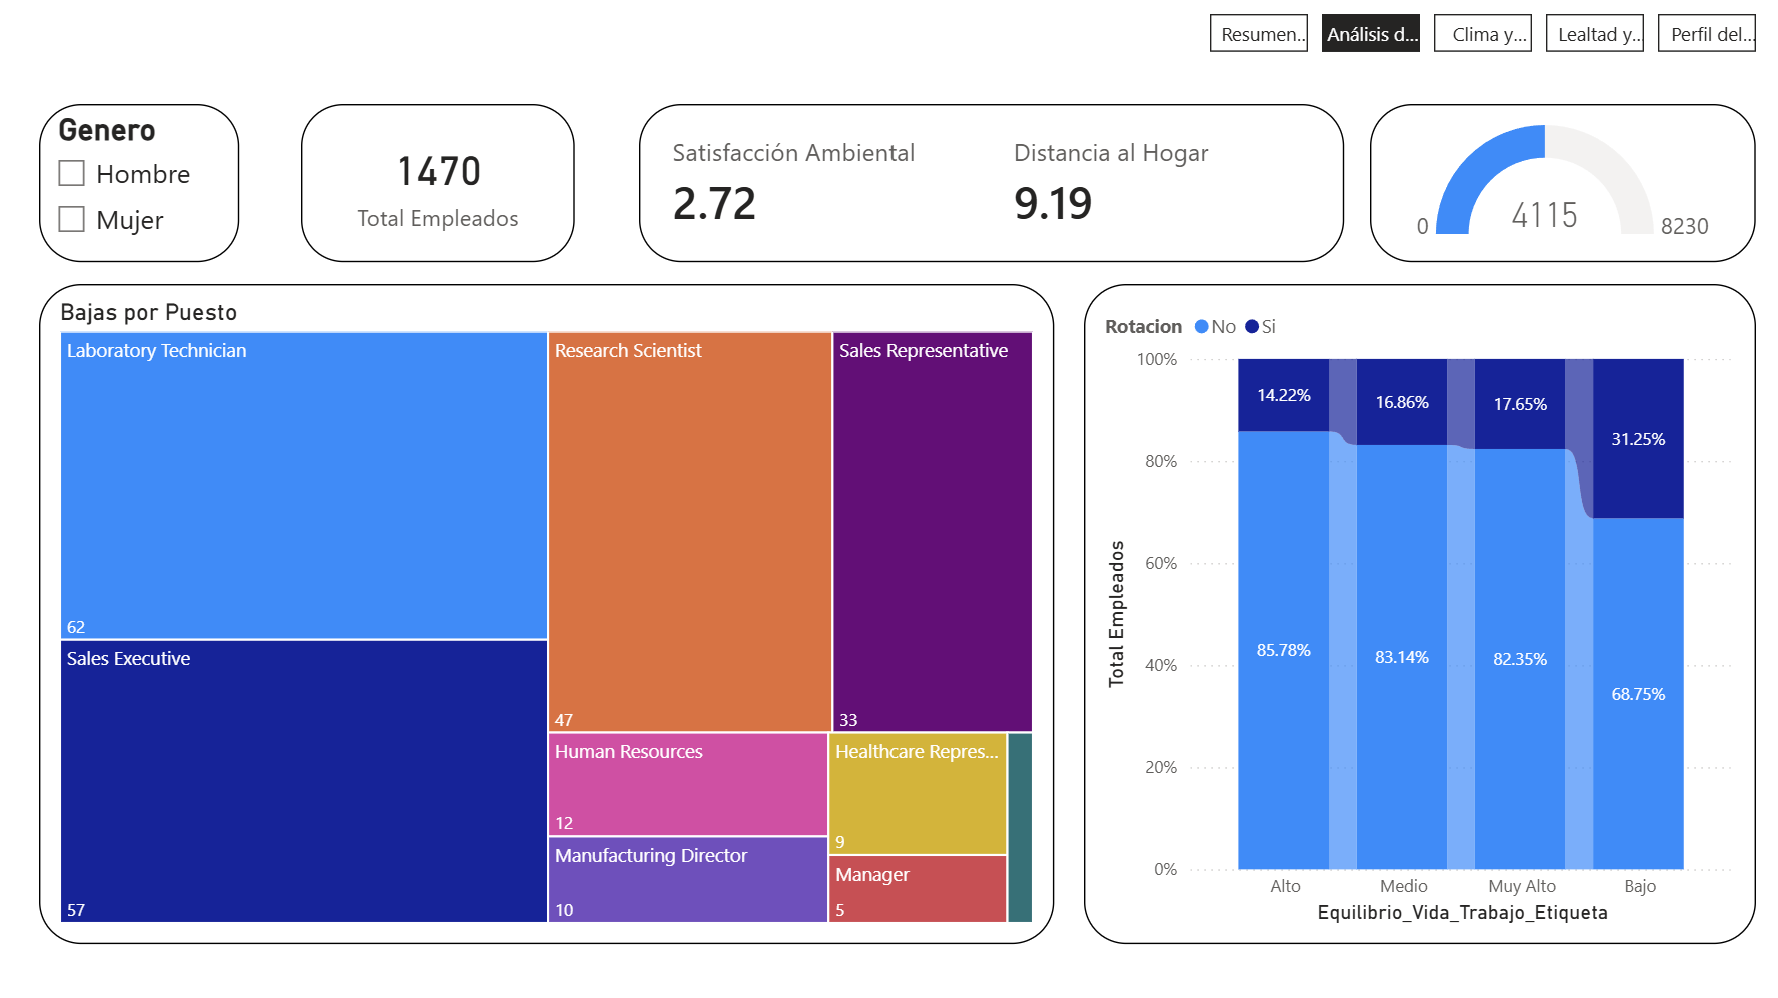

What the dashboard file says about the page in this screenshot:
{"tool":"powerbi","page":{"name":"Análisis de Rotación","canvas":[1280,720],"ordinal":1},"visuals":[{"type":"treemap","fields":{"Values":["HR_Analytics_Limpio.Bajas"],"Group":["HR_Analytics_Limpio.Puesto"]},"box":[32.9,207.1,724.3,471.4],"z":0},{"type":"hundredPercentStackedColumnChart","fields":{"Y":["HR_Analytics_Limpio.Total Empleados"],"Category":["HR_Analytics_Limpio.Equilibrio_Vida_Trabajo_Etiqueta"],"Series":["HR_Analytics_Limpio.Rotacion"]},"box":[778.6,207.1,480,471.4],"z":1000},{"type":"slicer","fields":{"Values":["HR_Analytics_Limpio.Genero"]},"box":[32.9,78.6,142.9,112.9],"z":2000},{"type":"card","fields":{"Values":["HR_Analytics_Limpio.Total Empleados"]},"box":[220,78.6,195.7,112.9],"z":3000},{"type":"cardVisual","fields":{"Data":["Avg(HR_Analytics_Limpio.Satisfaccion_Ambiente)","Avg(HR_Analytics_Limpio.Distancia_Casa)"]},"box":[461.4,78.6,502.9,112.9],"z":4000},{"type":"gauge","fields":{"Y":["Sum(HR_Analytics_Limpio.TrainingTimesLastYear)"]},"box":[982.9,78.6,275.7,112.9],"z":5000},{"type":"pageNavigator","box":[868.6,14.3,390,27.1],"z":6000}]}

Visuals, with their boxes in screenshot pixels (x1, y1, x2, y2), scaled from the page's 1280x720 canvas onto the 1778x998 screenshot:
treemap - HR_Analytics_Limpio.Bajas x HR_Analytics_Limpio.Puesto: <bbox>46, 287, 1052, 940</bbox>
hundredPercentStackedColumnChart - HR_Analytics_Limpio.Total Empleados x HR_Analytics_Limpio.Equilibrio_Vida_Trabajo_Etiqueta: <bbox>1082, 287, 1748, 940</bbox>
slicer - HR_Analytics_Limpio.Genero: <bbox>46, 109, 244, 265</bbox>
card - HR_Analytics_Limpio.Total Empleados: <bbox>306, 109, 577, 265</bbox>
cardVisual - Avg(HR_Analytics_Limpio.Satisfaccion_Ambiente) x Avg(HR_Analytics_Limpio.Distancia_Casa): <bbox>641, 109, 1339, 265</bbox>
gauge - Sum(HR_Analytics_Limpio.TrainingTimesLastYear): <bbox>1365, 109, 1748, 265</bbox>
pageNavigator: <bbox>1207, 20, 1748, 57</bbox>
